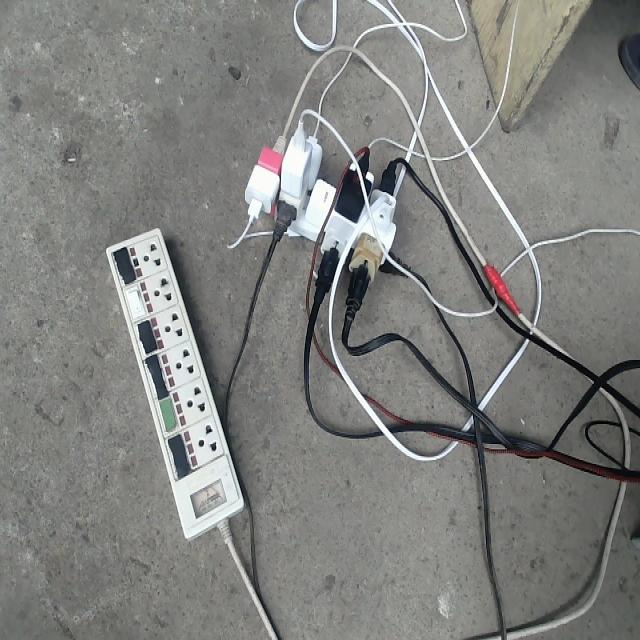-: (242, 129, 398, 284)
